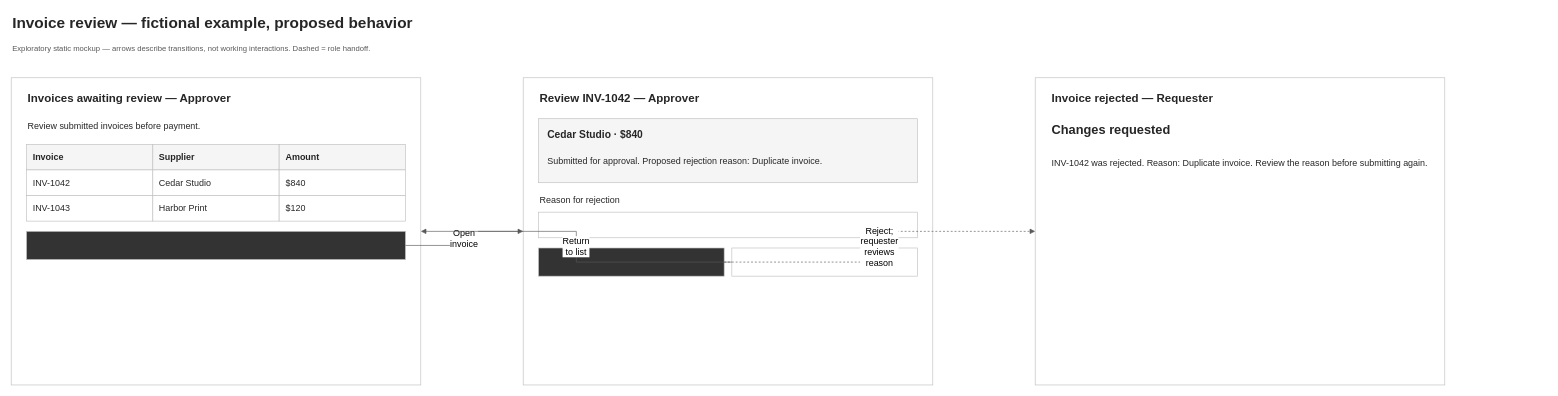
The diagram is 1558 pixels wide and 396 high, and some of its shapes have lost their labels. Here are the shapes that lost their labels. From the top down, the centre of each, then its label:
point 215,245: Review INV-1042
point 727,225: Duplicate invoice
point 631,261: Reject with reason
point 824,261: Back to invoices
